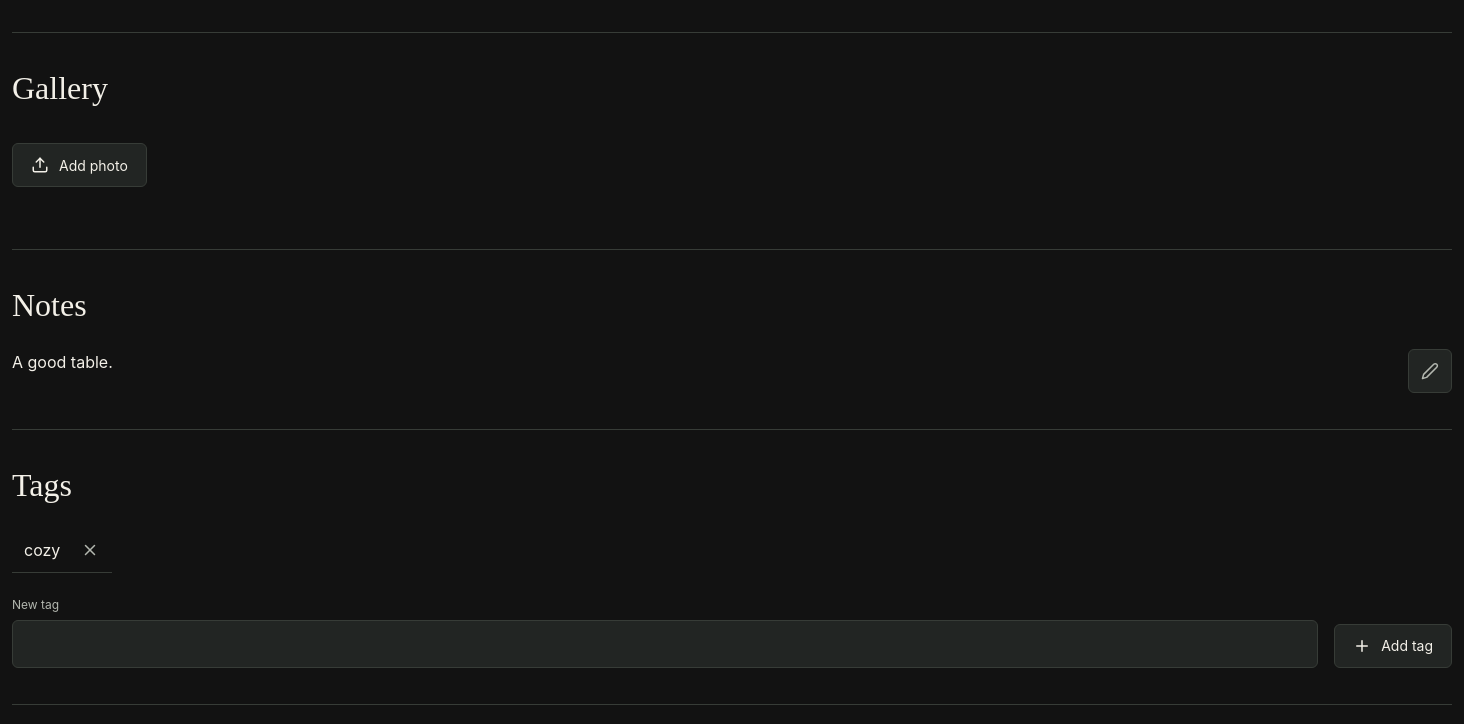
Test: concurrent same-field conflict retains the draft and fetches the latest value for explicit reset
The width and height of the screenshot is (1464, 724).
(page scrolled)
Step 1. Click the button named "Edit general notes" → (1430, 371), box [1408,349,1452,393]
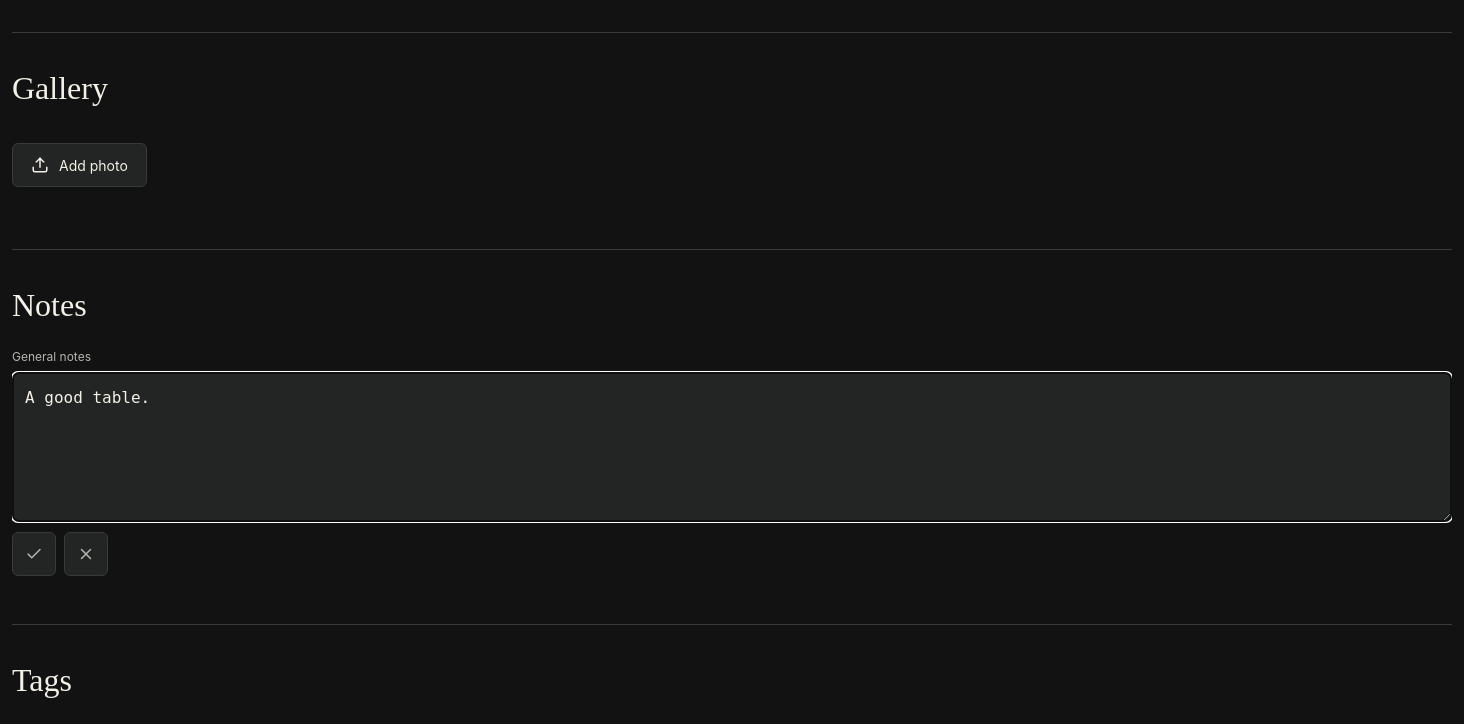
Step 2. Replace the text in the text box labelled "General notes" with "Mine" → (732, 447), box [12,372,1452,522]
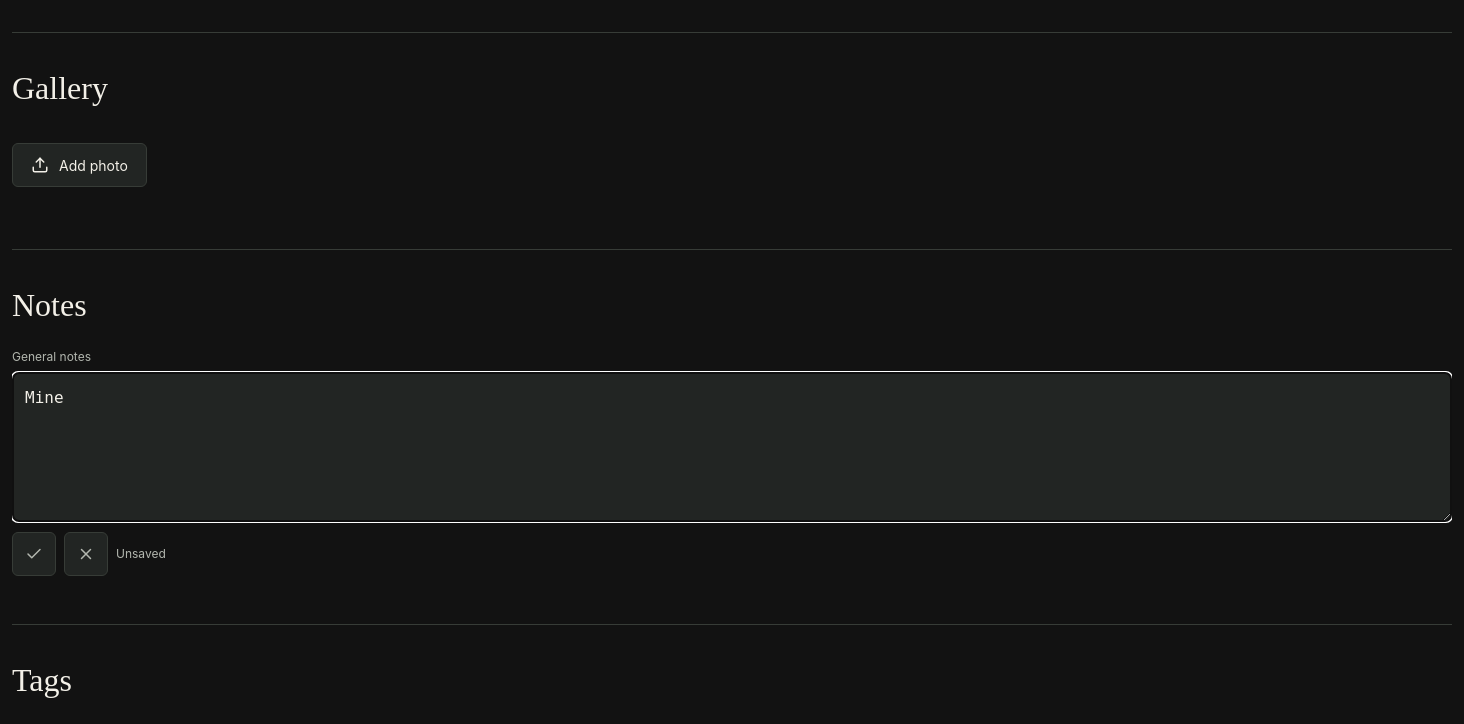
Step 3. Click the button named "Save general notes" → (34, 554), box [12,532,56,576]
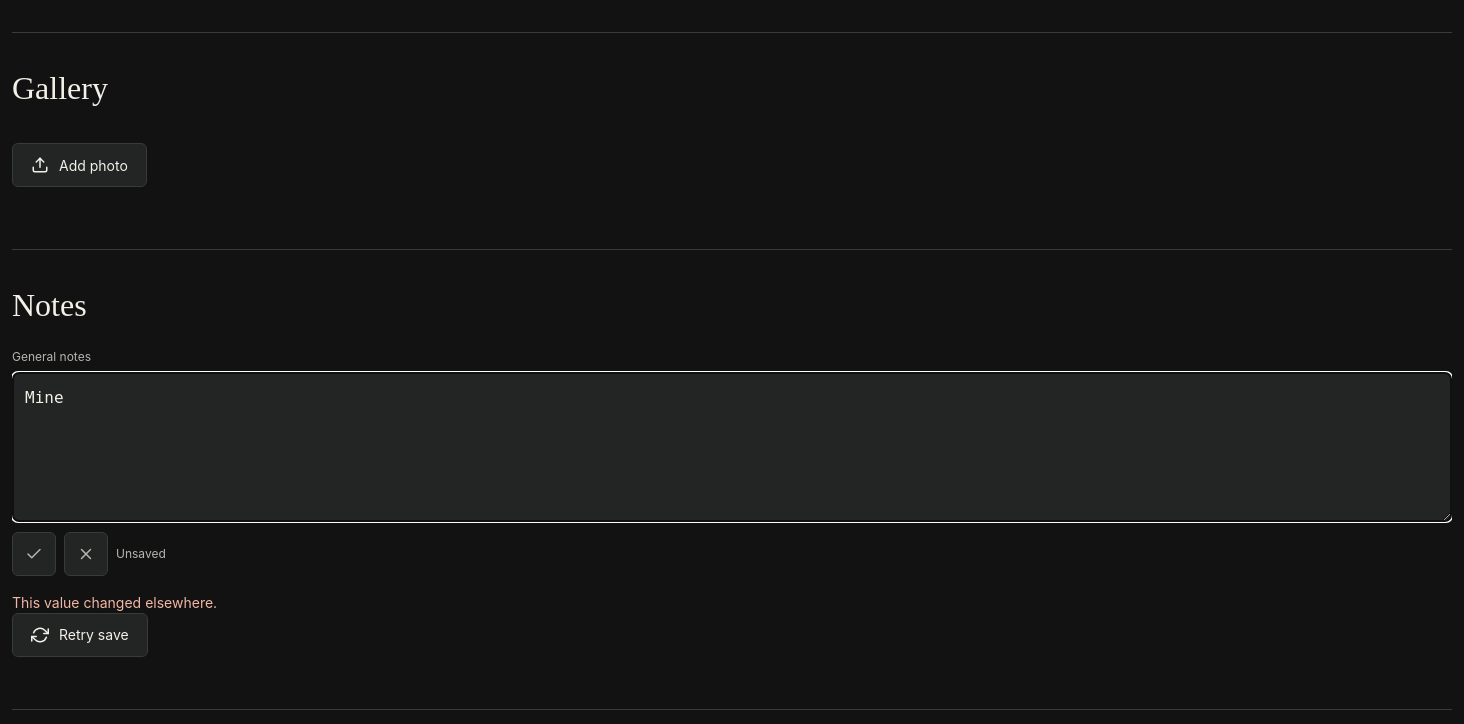
Step 4. Click the button named "Use latest general notes" → (86, 554), box [64,532,108,576]
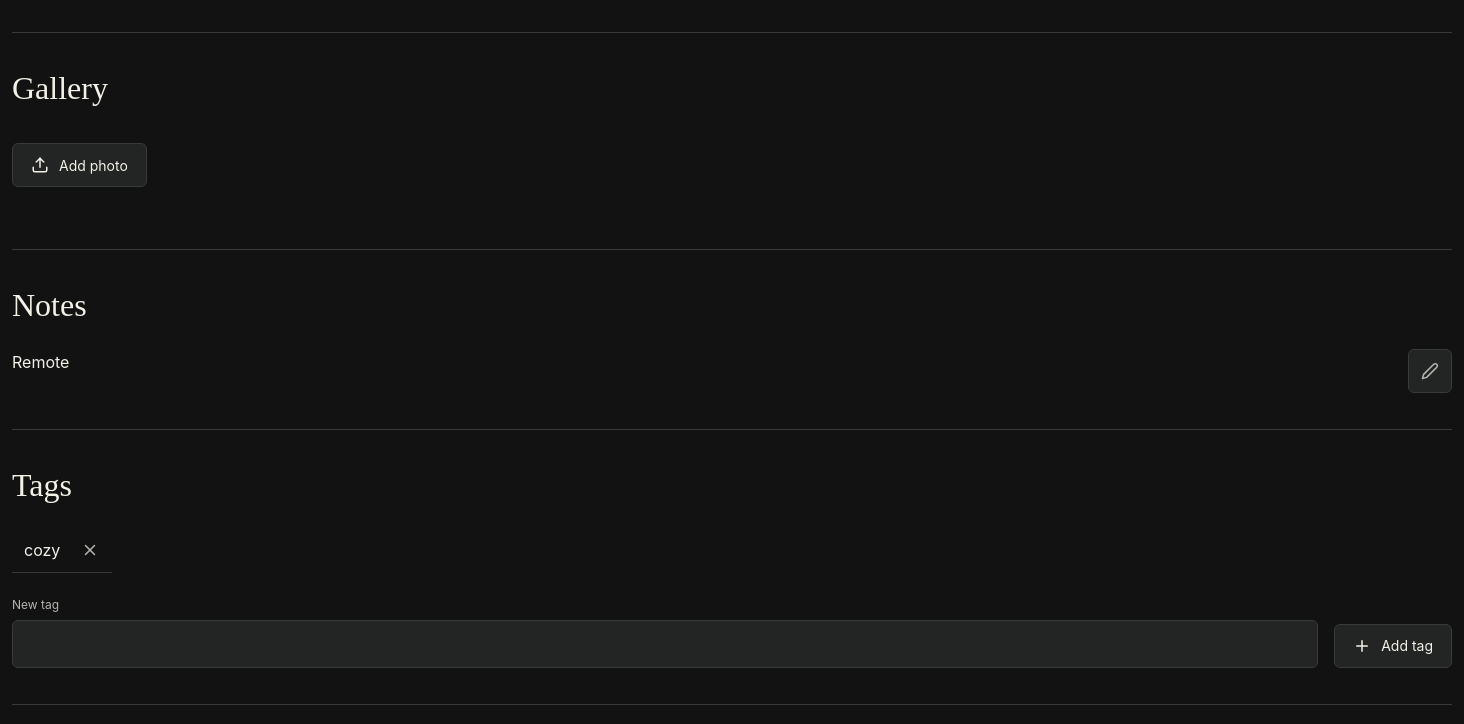
Result: the text "Remote" is shown at [12,349,69,376]
